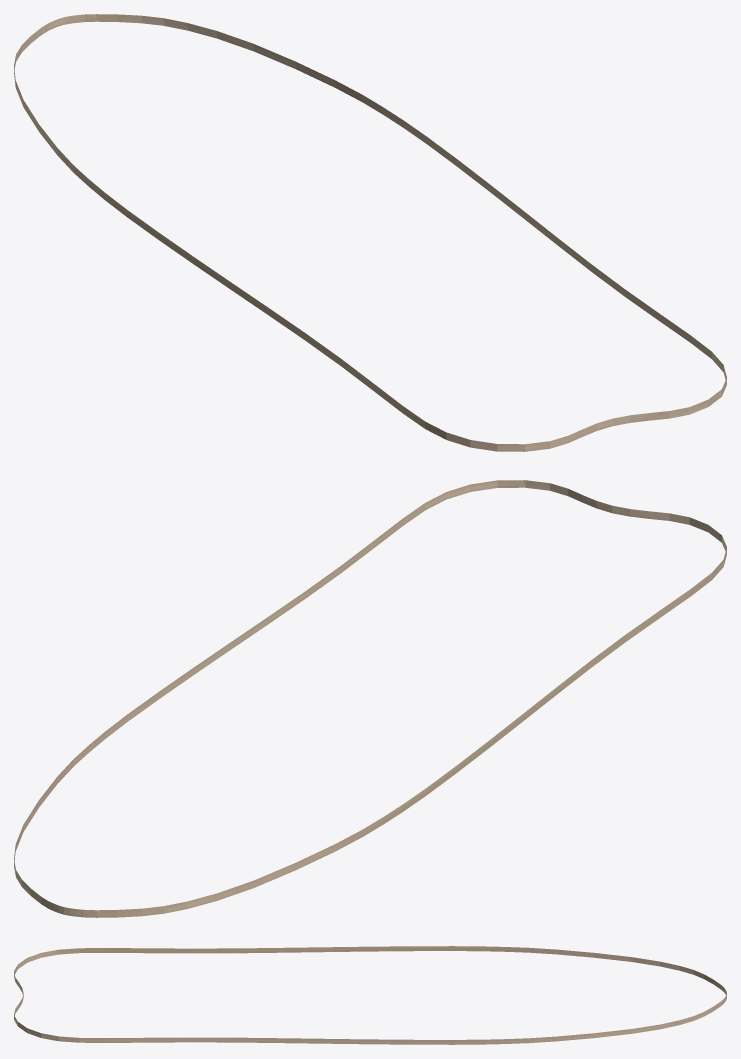
File: surfboard02-side.glb
3 renders of one model, top to bottom at view 1: azimuth 30°, elevation 25°; view 2: azimuth 150°, elevation 25°; view 3: azimuth 270°, elevation 25°, orthographic. The views are drawn at different scales.
Visible parts, largest first — view 1: surfboard02-side; view 2: surfboard02-side; view 3: surfboard02-side.
Part boxes in pixels (x1,y1,x2,y2): surfboard02-side: (14,14,726,451); surfboard02-side: (14,480,726,917); surfboard02-side: (14,946,726,1044).
Bounding box in the file's own units: 0.2669 × 0.0065 × 0.8574.
Materials: 1 (1 with a texture image).
